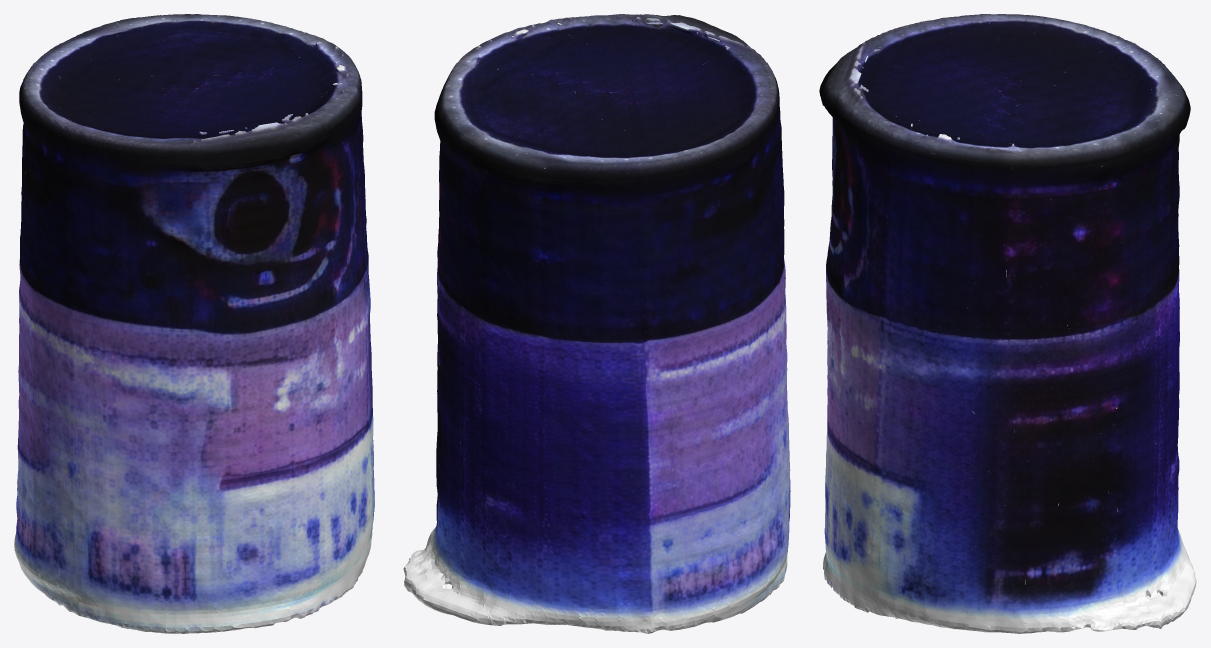
The model's file is instantmesh_recon.glb.
3 views of the same model, side by side, from view 1: azimuth 30°, elevation 25°; view 2: azimuth 150°, elevation 25°; view 3: azimuth 270°, elevation 25° (orthographic).
Visible parts, largest first — view 1: refined.obj; view 2: refined.obj; view 3: refined.obj.
Part boxes in pixels (bbox=[...]): refined.obj: bbox=[14, 14, 374, 633]; refined.obj: bbox=[403, 14, 790, 633]; refined.obj: bbox=[819, 14, 1196, 633].
Size of the model in its own units: 0.0665 by 0.1003 by 0.069.
1 material, 1 textured.
